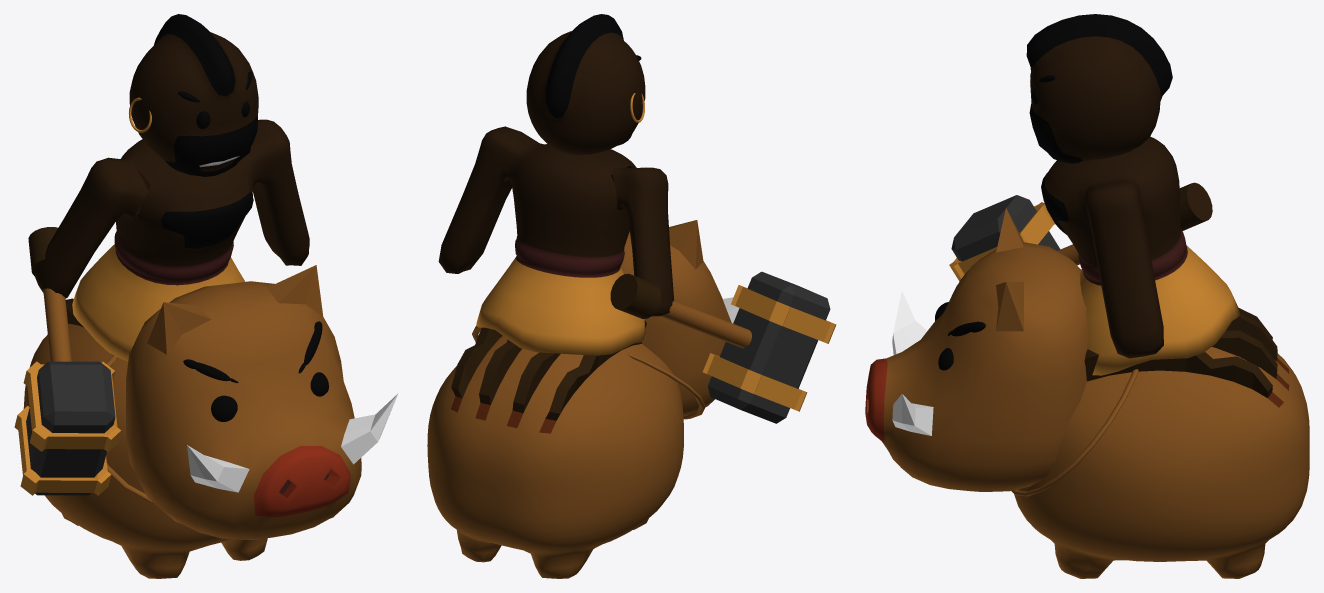
File: yezhuqishi.fbx
3 renders of one model, left to right at view 1: azimuth 30°, elevation 25°; view 2: azimuth 150°, elevation 25°; view 3: azimuth 270°, elevation 25°, orthographic. The views are drawn at different scales.
Visible parts, largest first — view 1: Box001, arm; view 2: Box001, arm; view 3: Box001, arm.
Part boxes in pixels (<box>): Box001: <box>23,14,398,578</box>; arm: <box>14,157,148,495</box>; Box001: <box>427,14,739,578</box>; arm: <box>610,167,836,423</box>; Box001: <box>865,14,1309,578</box>; arm: <box>949,182,1212,281</box>.
Size of the model in its own units: 54.77 by 81.61 by 60.8.
